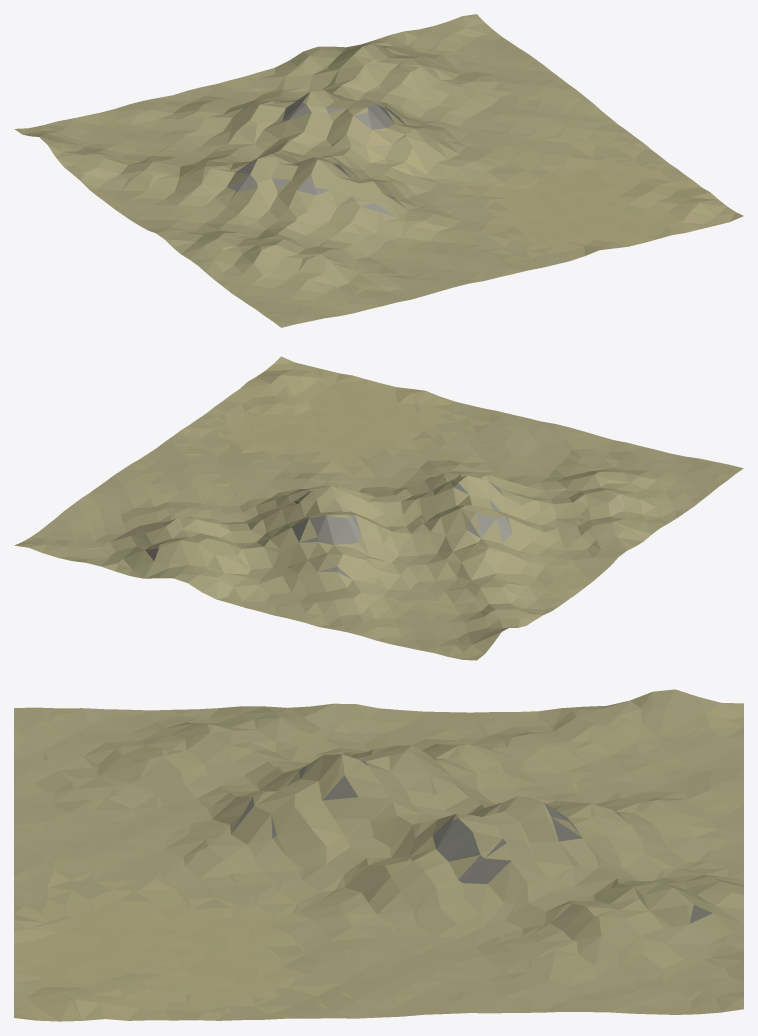
The model's file is Ground_-1_-4.glb.
3 renders of one model, top to bottom at view 1: azimuth 30°, elevation 25°; view 2: azimuth 150°, elevation 25°; view 3: azimuth 270°, elevation 25°, orthographic. The views are drawn at different scales.
Parts seen in each view (by area): view 1: Ground_-1_-4; view 2: Ground_-1_-4; view 3: Ground_-1_-4.
Boxes of the visible parts, box(x1,y1,x2,y2) form: Ground_-1_-4: box(14, 14, 743, 327); Ground_-1_-4: box(14, 356, 743, 660); Ground_-1_-4: box(14, 689, 743, 1021).
Bounding box in the file's own units: 768 × 73.3 × 768.
